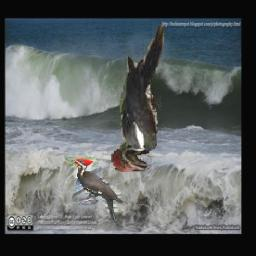Woodpecker: (112, 25, 165, 172), (64, 157, 123, 226)
